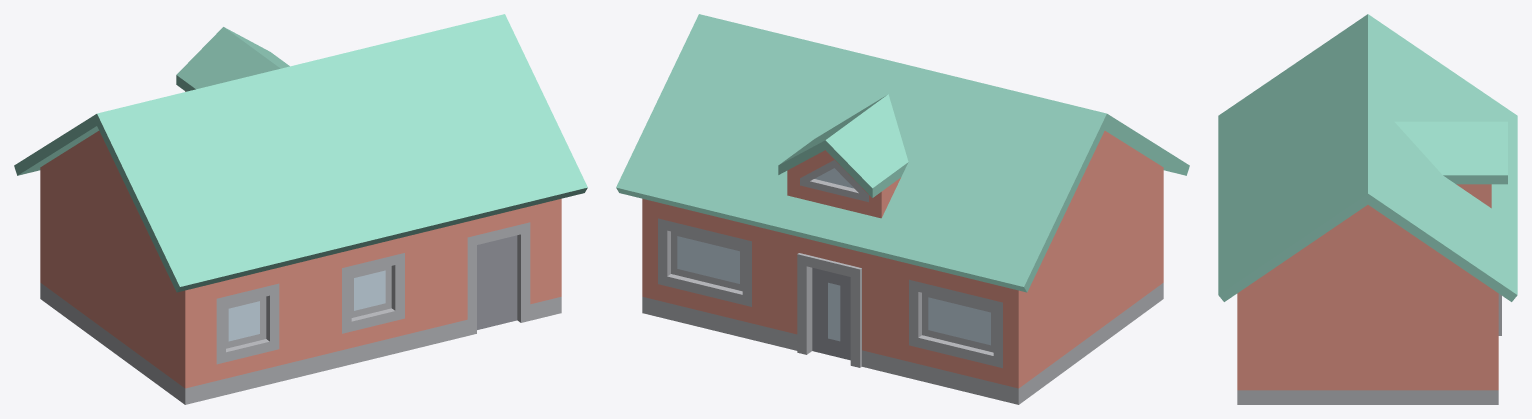
File: house7.fbx
3 views of the same model, side by side, from view 1: azimuth 30°, elevation 25°; view 2: azimuth 150°, elevation 25°; view 3: azimuth 270°, elevation 25° (orthographic). The views are drawn at different scales.
Parts seen in each view (by area): view 1: house_type07; view 2: house_type07; view 3: house_type07.
Part boxes in pixels (x1,y1,x2,y2): house_type07: (14,14,587,404); house_type07: (616,14,1189,404); house_type07: (1218,14,1517,404).
Size of the model in its own units: 1300 by 738 by 916.
